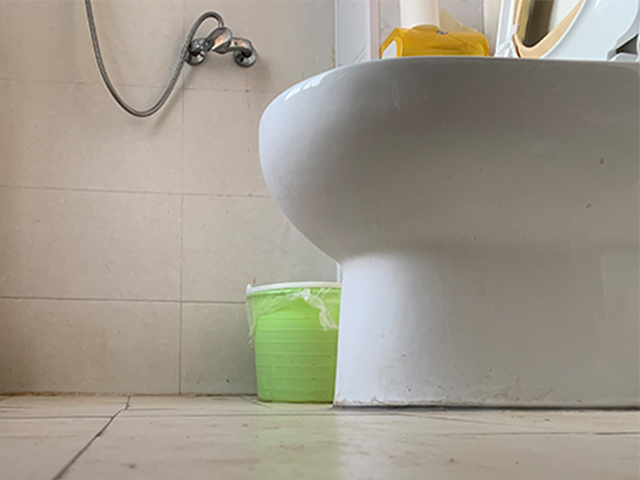closestool: (257, 1, 640, 411)
trashcan: (246, 279, 340, 403)
